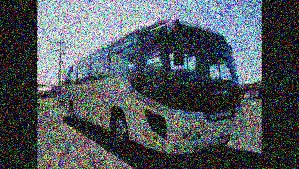bus: (61, 16, 241, 155)
